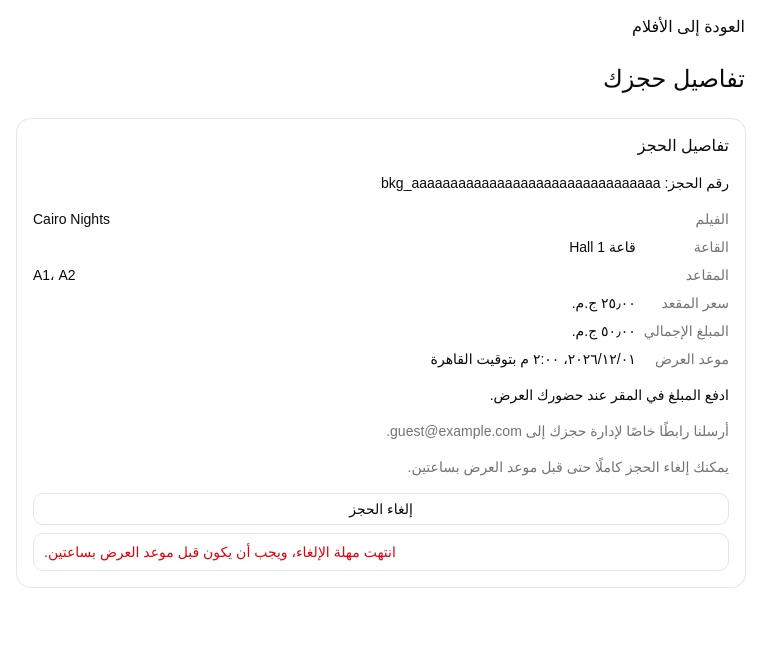
Test: GuestBookingPage › shows a localized error and keeps the confirmation open on a closed booking
Click the button "إلغاء الحجز". click: (381, 509)
box: [33, 493, 729, 525]
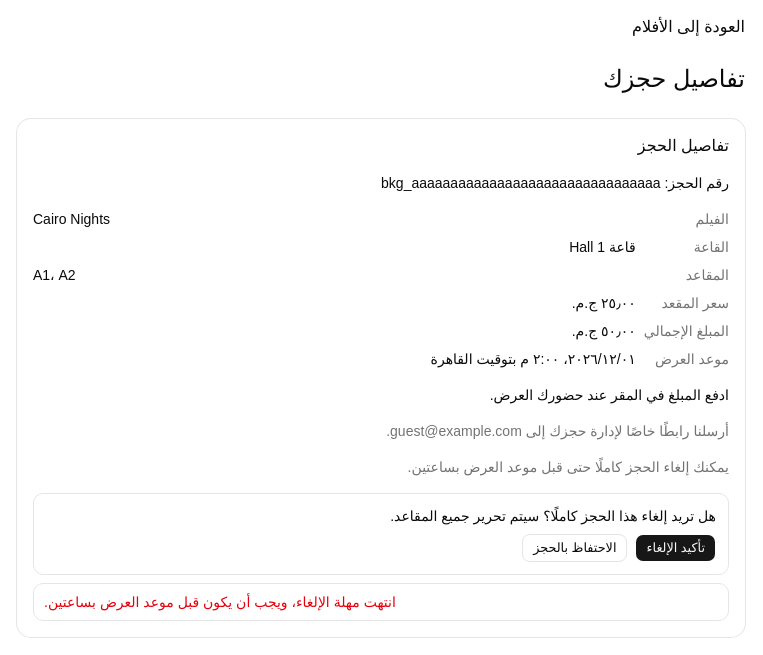
Expected: the message "انتهت مهلة الإلغاء، ويجب أن يكون قبل موعد العرض بساعتين." is shown, [33, 583, 729, 621]
Expected: the button "تأكيد الإلغاء" is shown, [636, 534, 716, 562]
